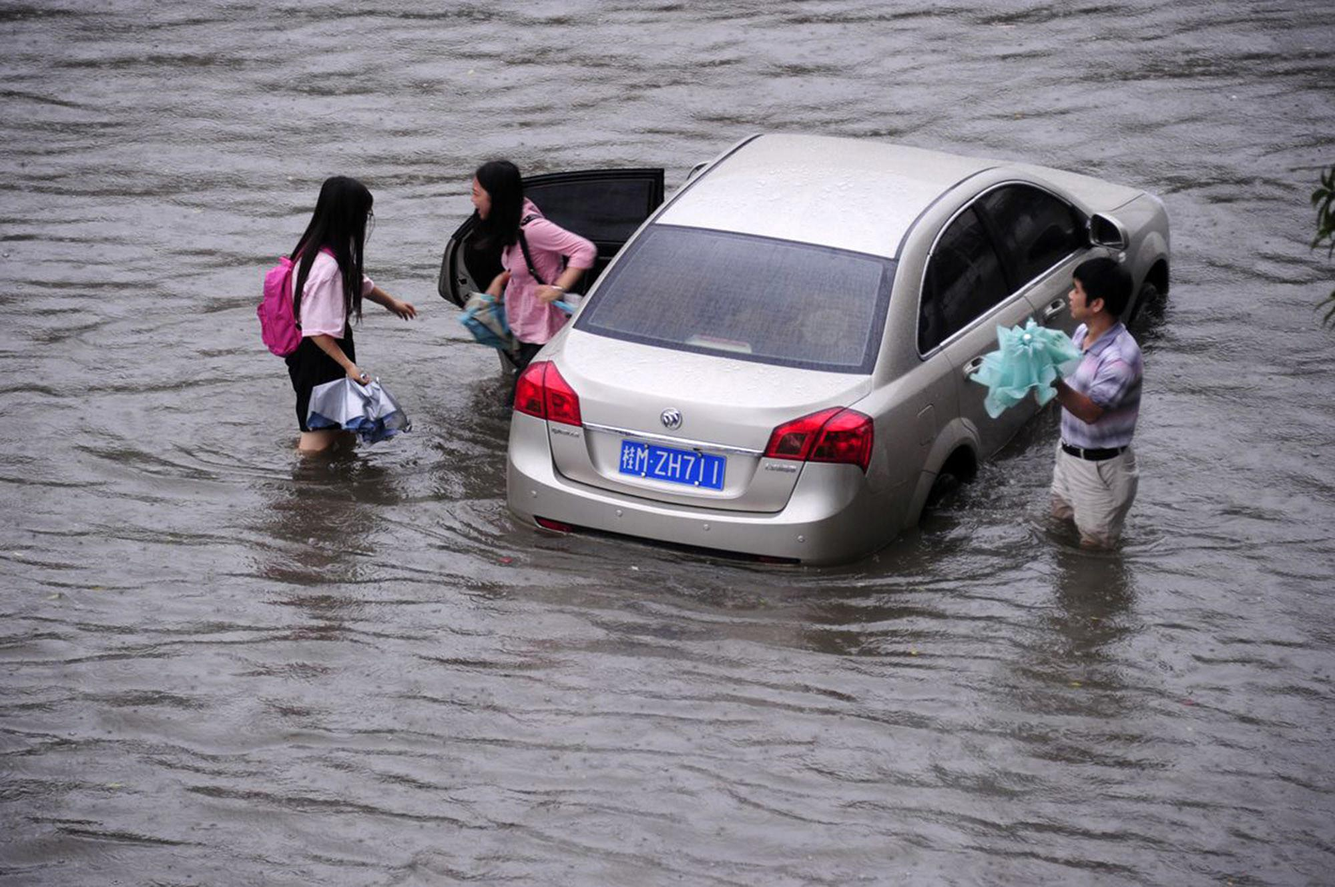water: (1, 2, 1334, 886), (7, 1, 1330, 365), (856, 349, 1333, 881)
